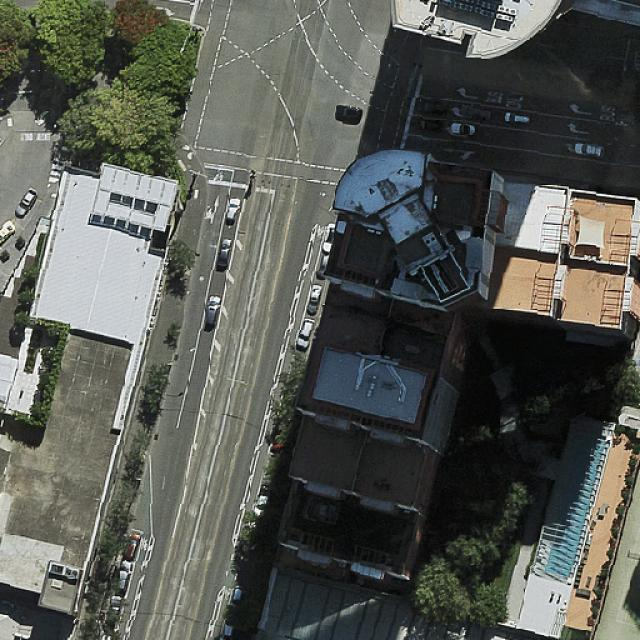Bike-Symbols: (213, 170, 225, 181), (224, 587, 232, 600), (141, 538, 148, 550)
